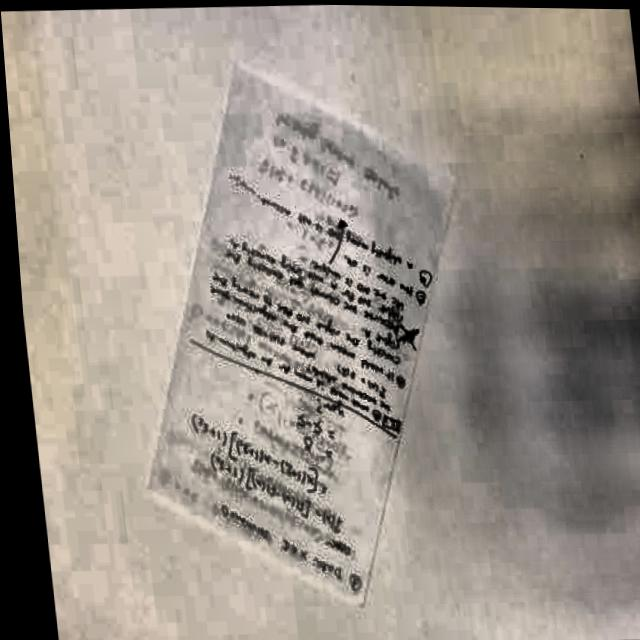Paper: (80, 38, 500, 623)
